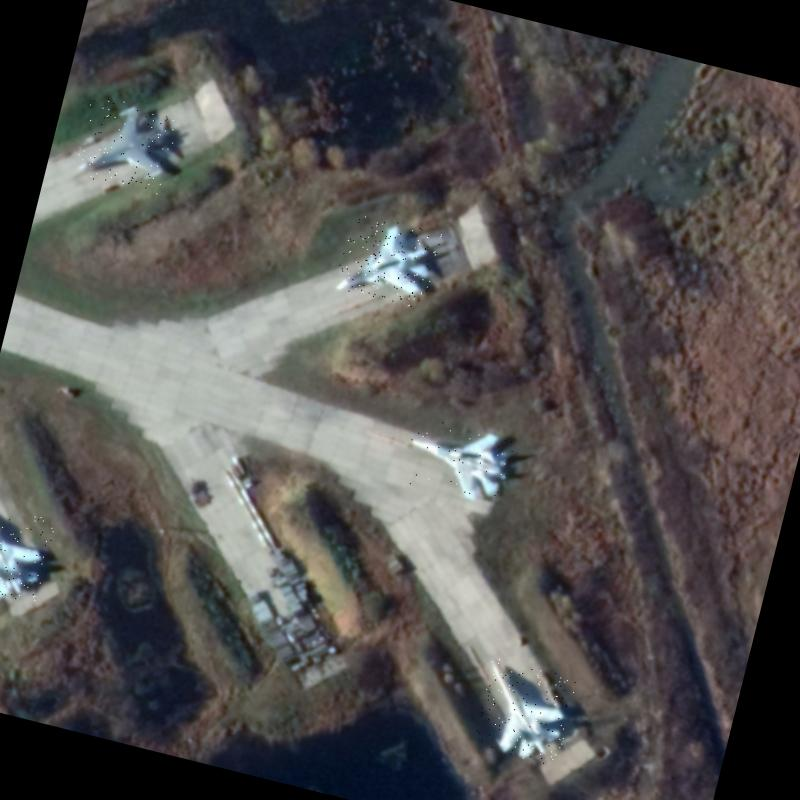A1: (470, 656, 578, 766), (400, 412, 519, 507), (72, 92, 180, 196), (0, 500, 56, 609)
A19: (332, 211, 442, 313)
